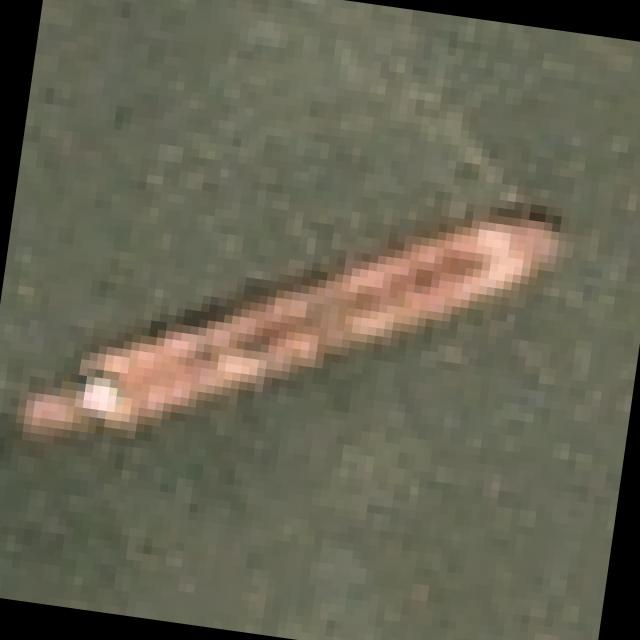ship: (0, 93, 594, 563)
